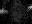person: (1, 7, 7, 12), (25, 6, 31, 10)
